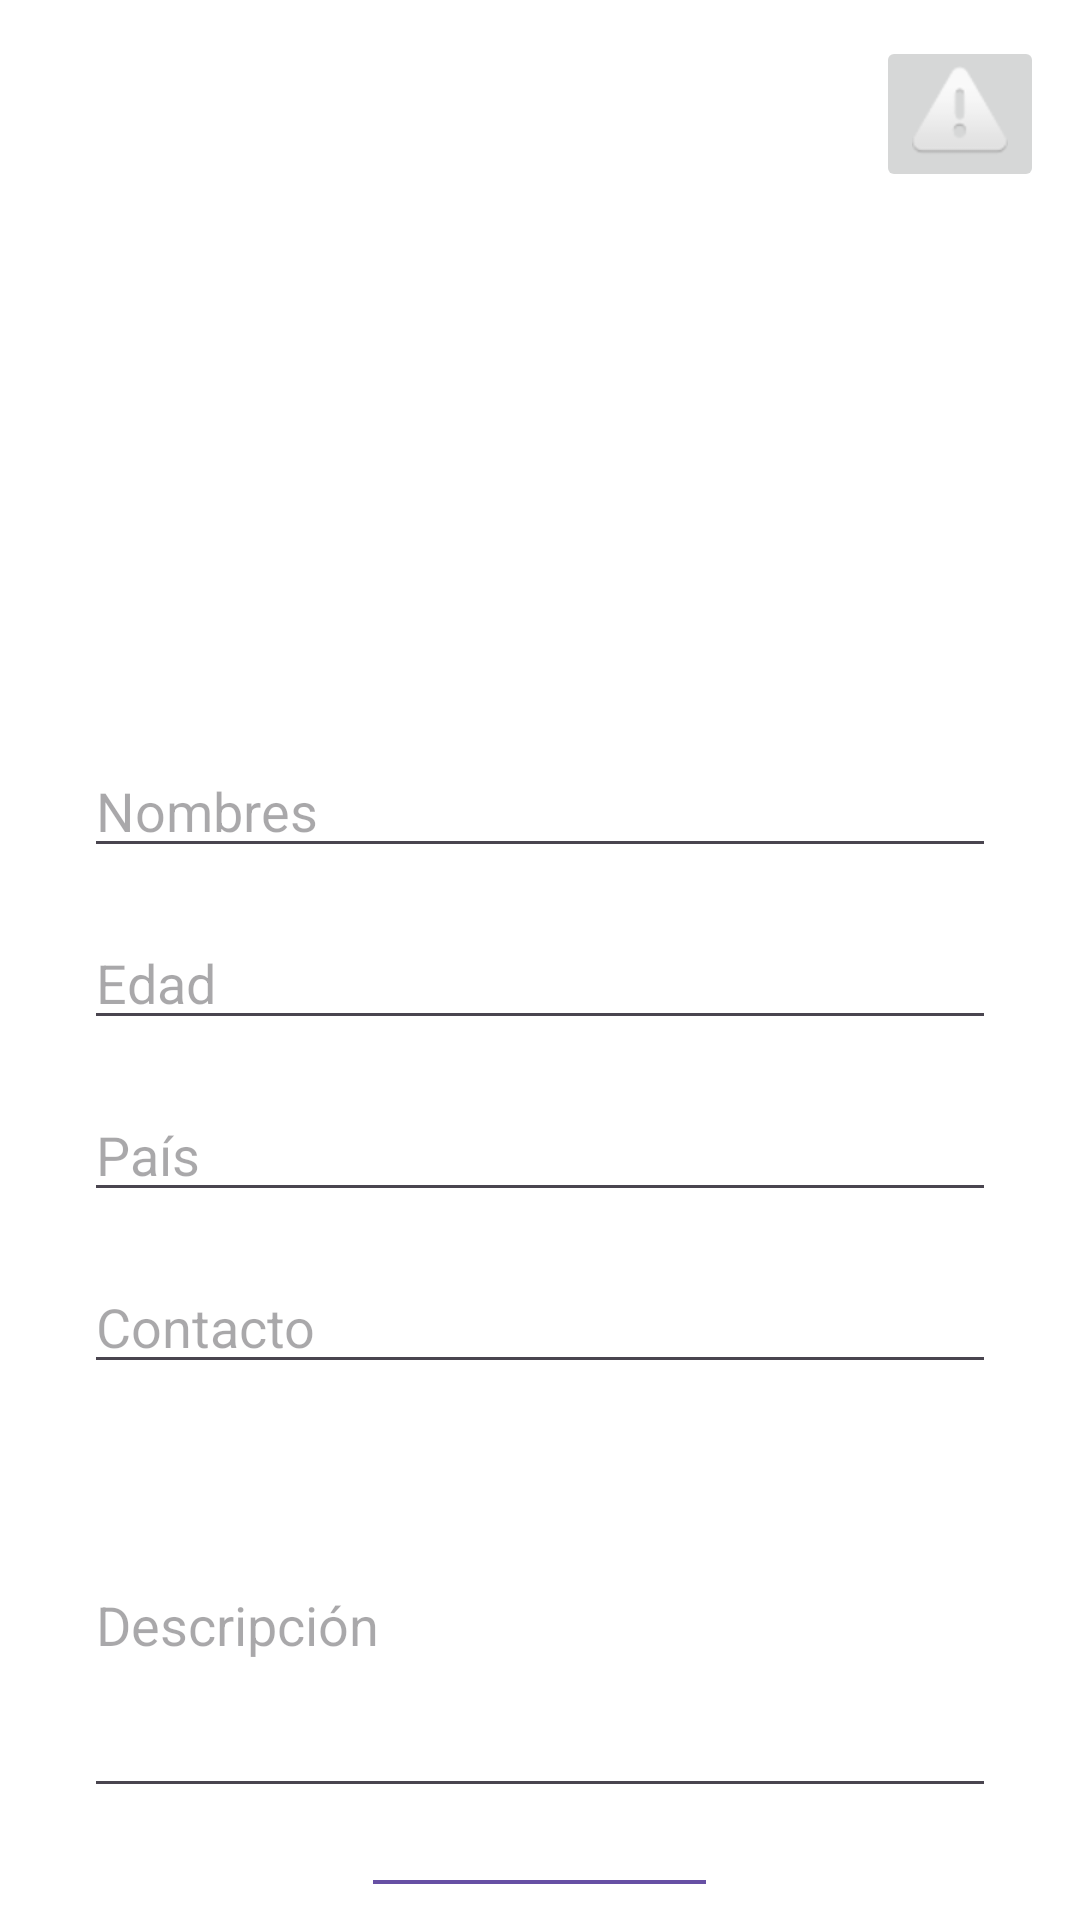

Icon bounding boxes for this 1080*1920 phone screenshot, format box=[x1, y1, x2, y2]:
alert: box=[888, 54, 1032, 174]
